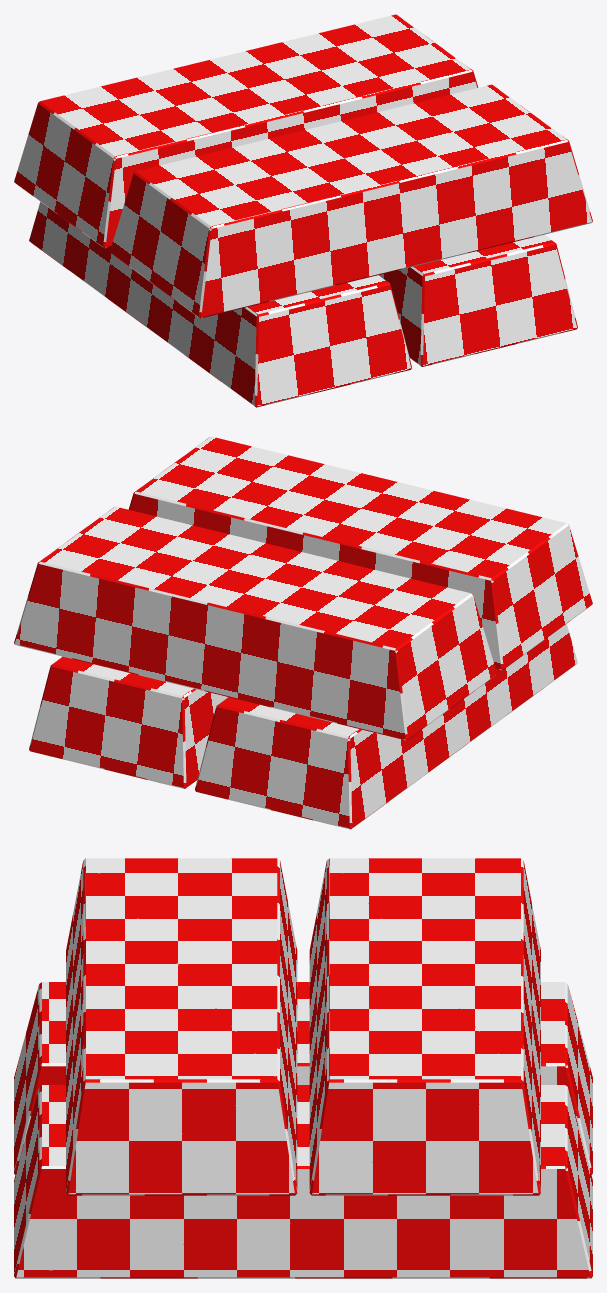
Rendered from bar.dae.
The picture shows the model from 3 angles, top to bottom: view 1: azimuth 30°, elevation 25°; view 2: azimuth 150°, elevation 25°; view 3: azimuth 270°, elevation 25°; orthographic projection. The views are drawn at different scales.
Visible parts, largest first — view 1: Bars; view 2: Bars; view 3: Bars.
Boxes of the visible parts, <box> form: Bars: <box>14,14,592,407</box>; Bars: <box>14,436,592,829</box>; Bars: <box>14,858,592,1278</box>.
Size of the model in its own units: 0.4991 by 0.4991 by 0.2.
1 material, 1 textured.
